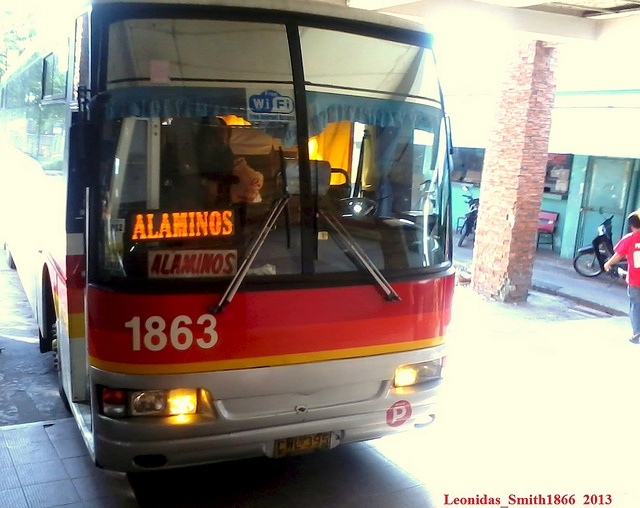non-vehicle: (573, 214, 614, 277), (456, 183, 479, 248)
